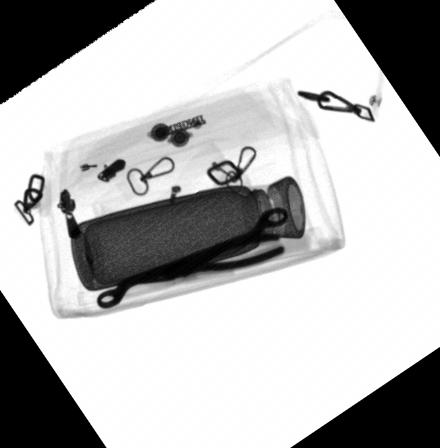Pliers: (128, 232, 282, 284)
Wrench: (97, 204, 288, 307)
